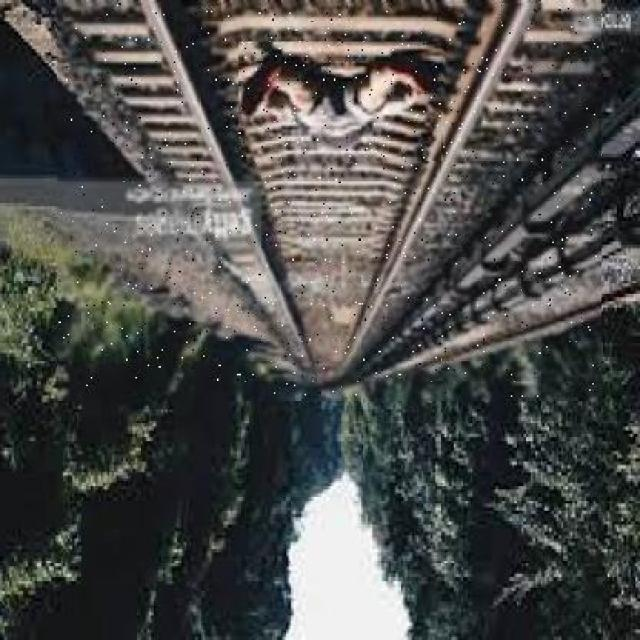rail: (60, 4, 602, 400)
